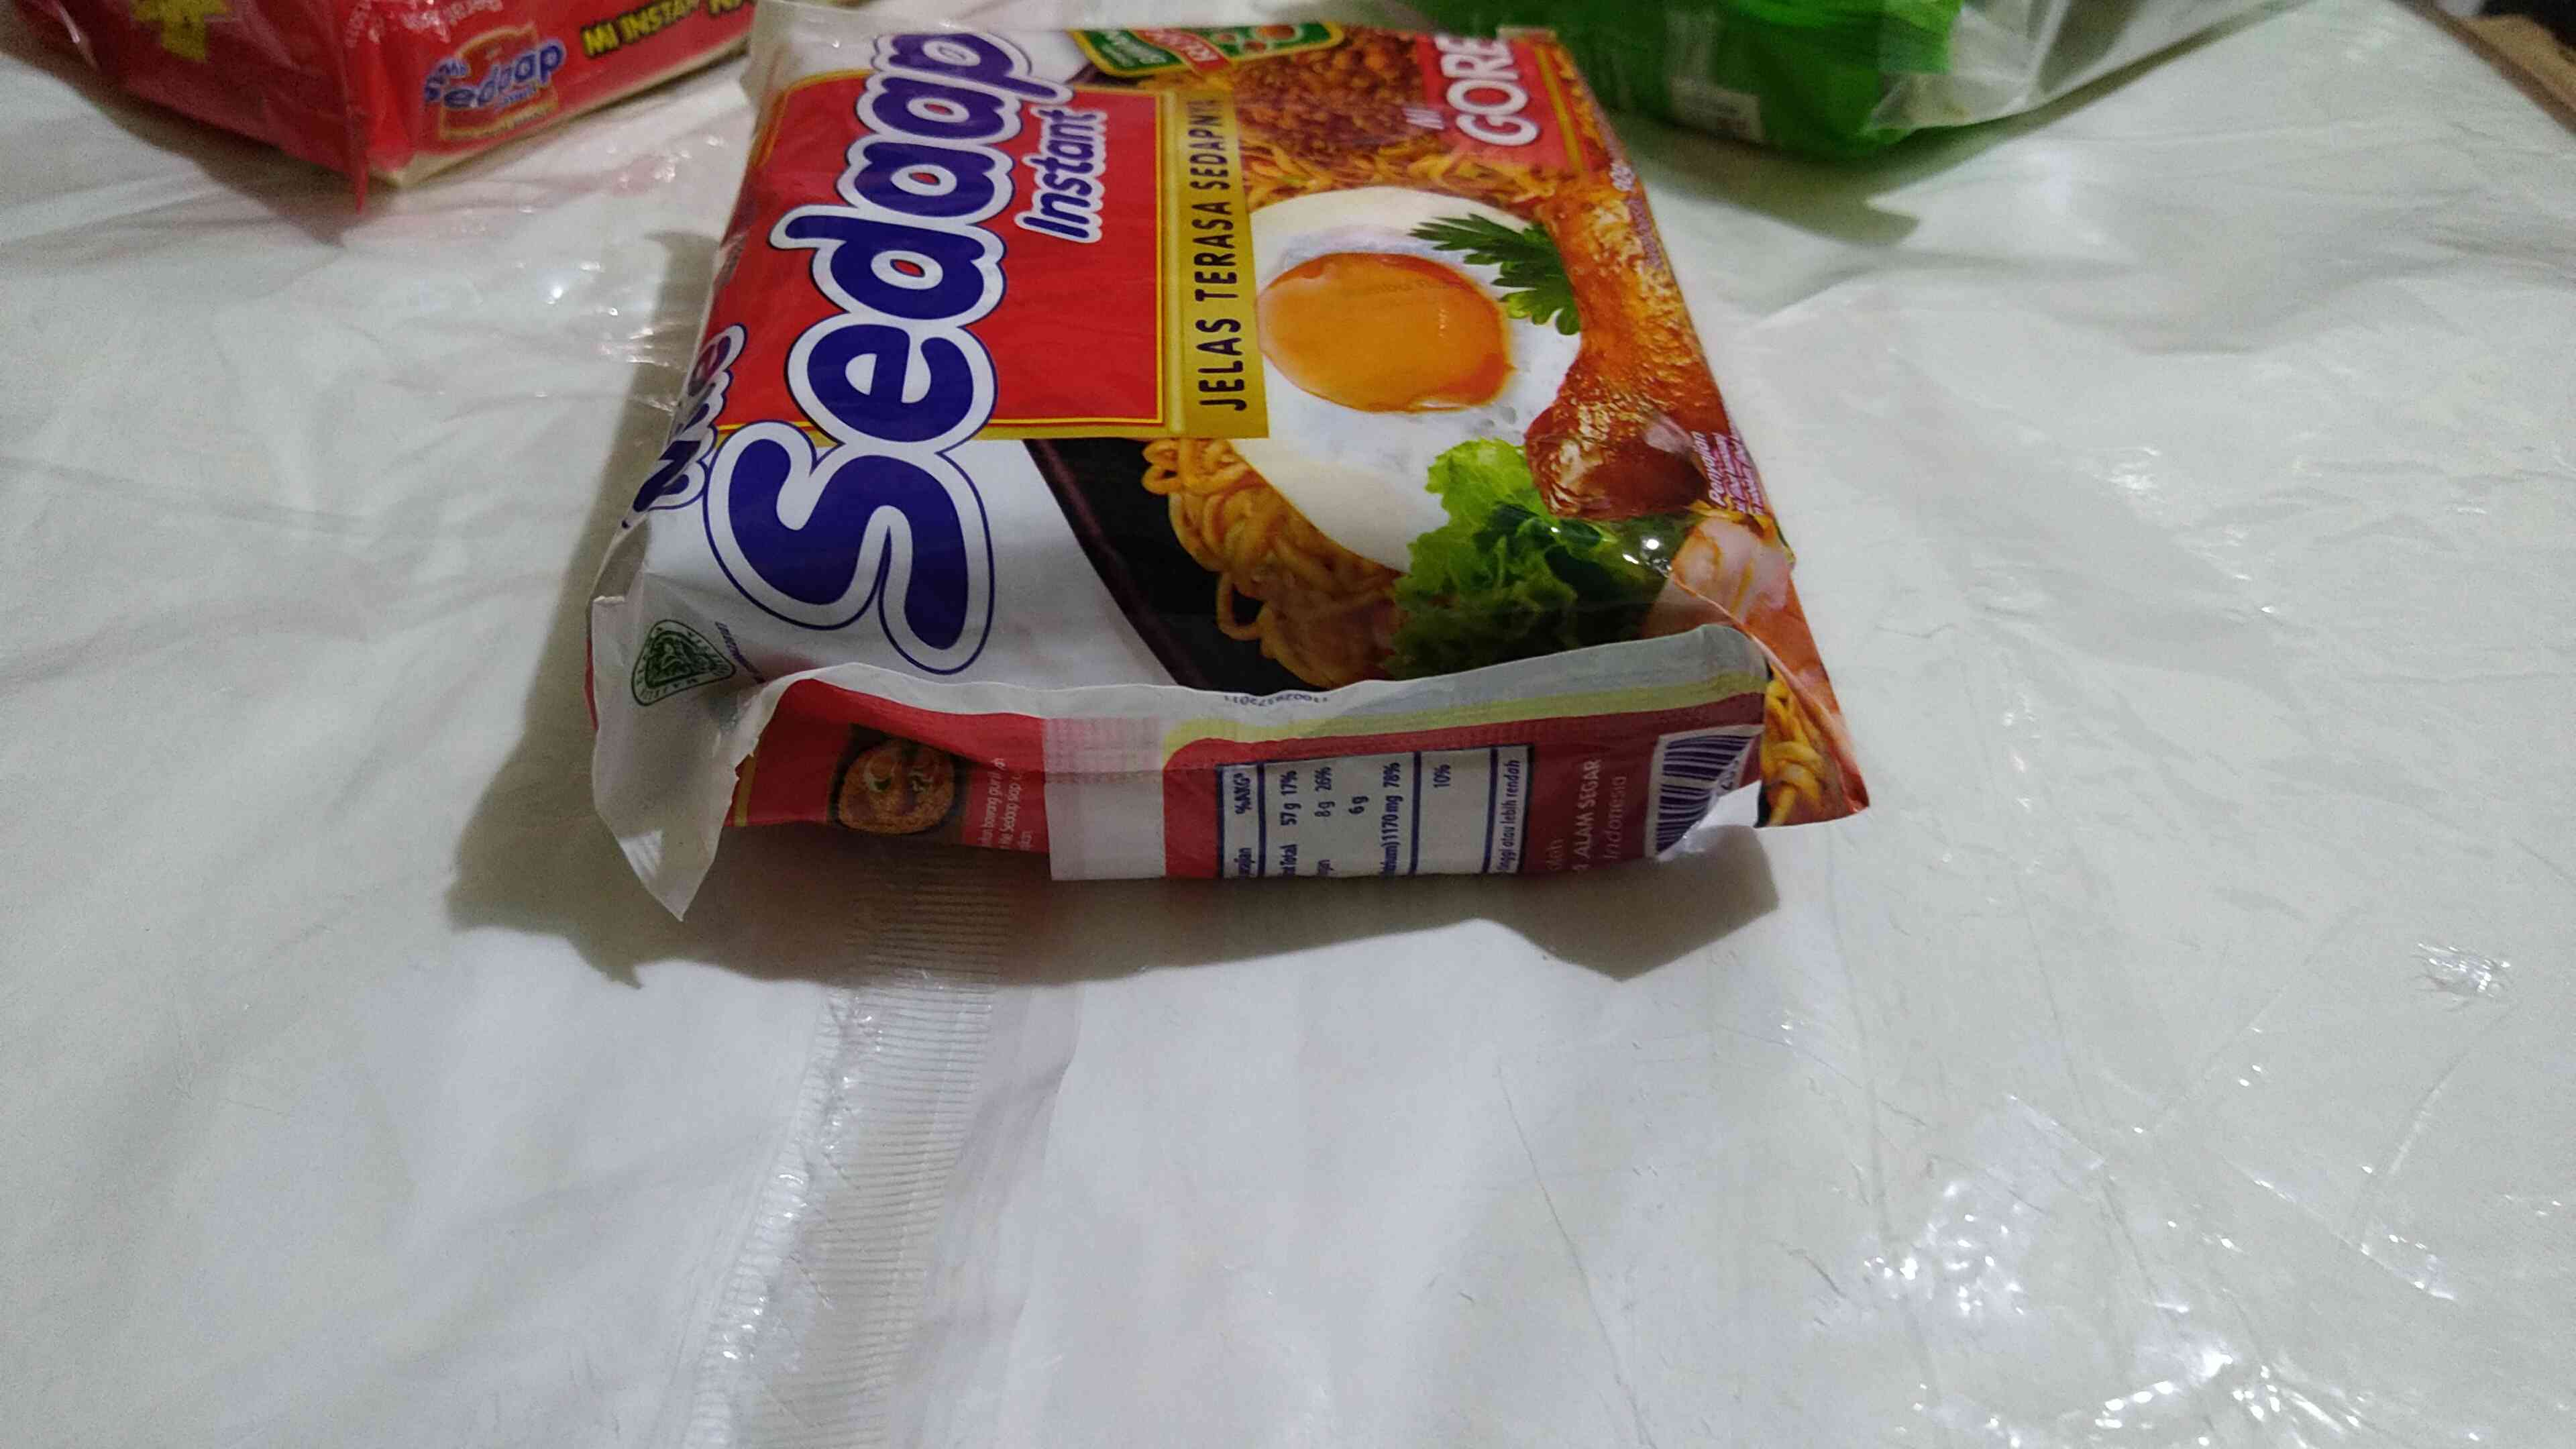sedaap goreng: (656, 28, 1813, 964)
